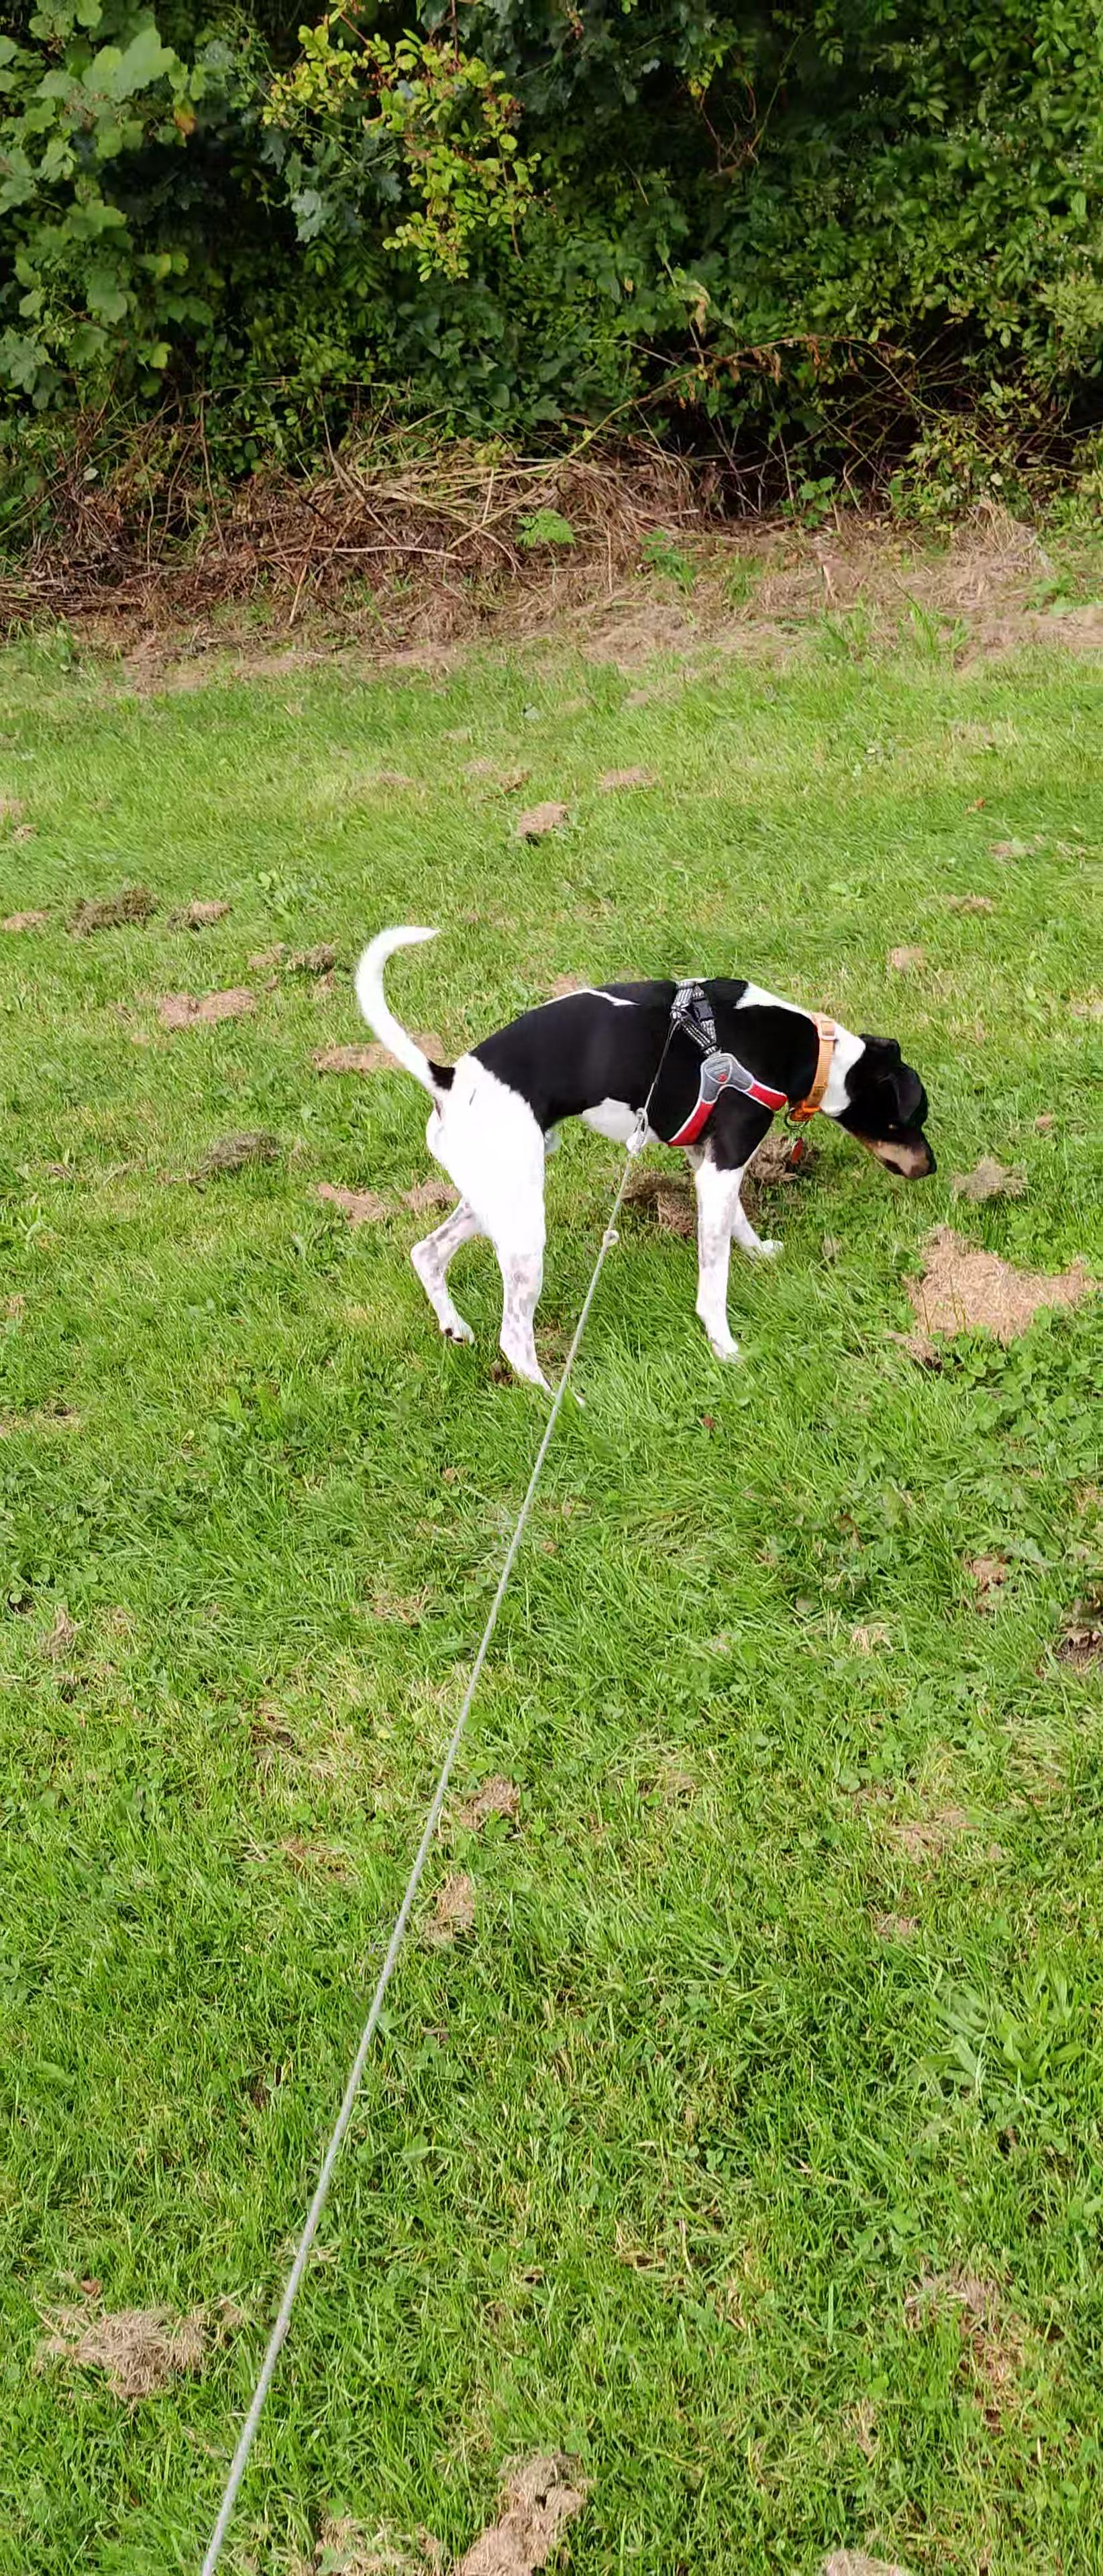Dog: (344, 904, 944, 1396)
